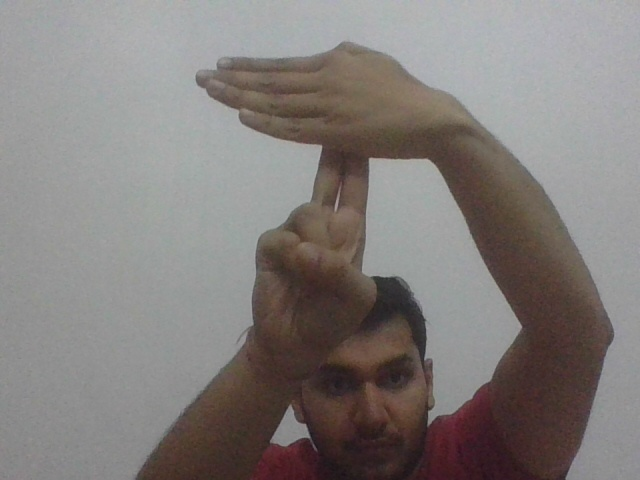N: (192, 38, 431, 215)
